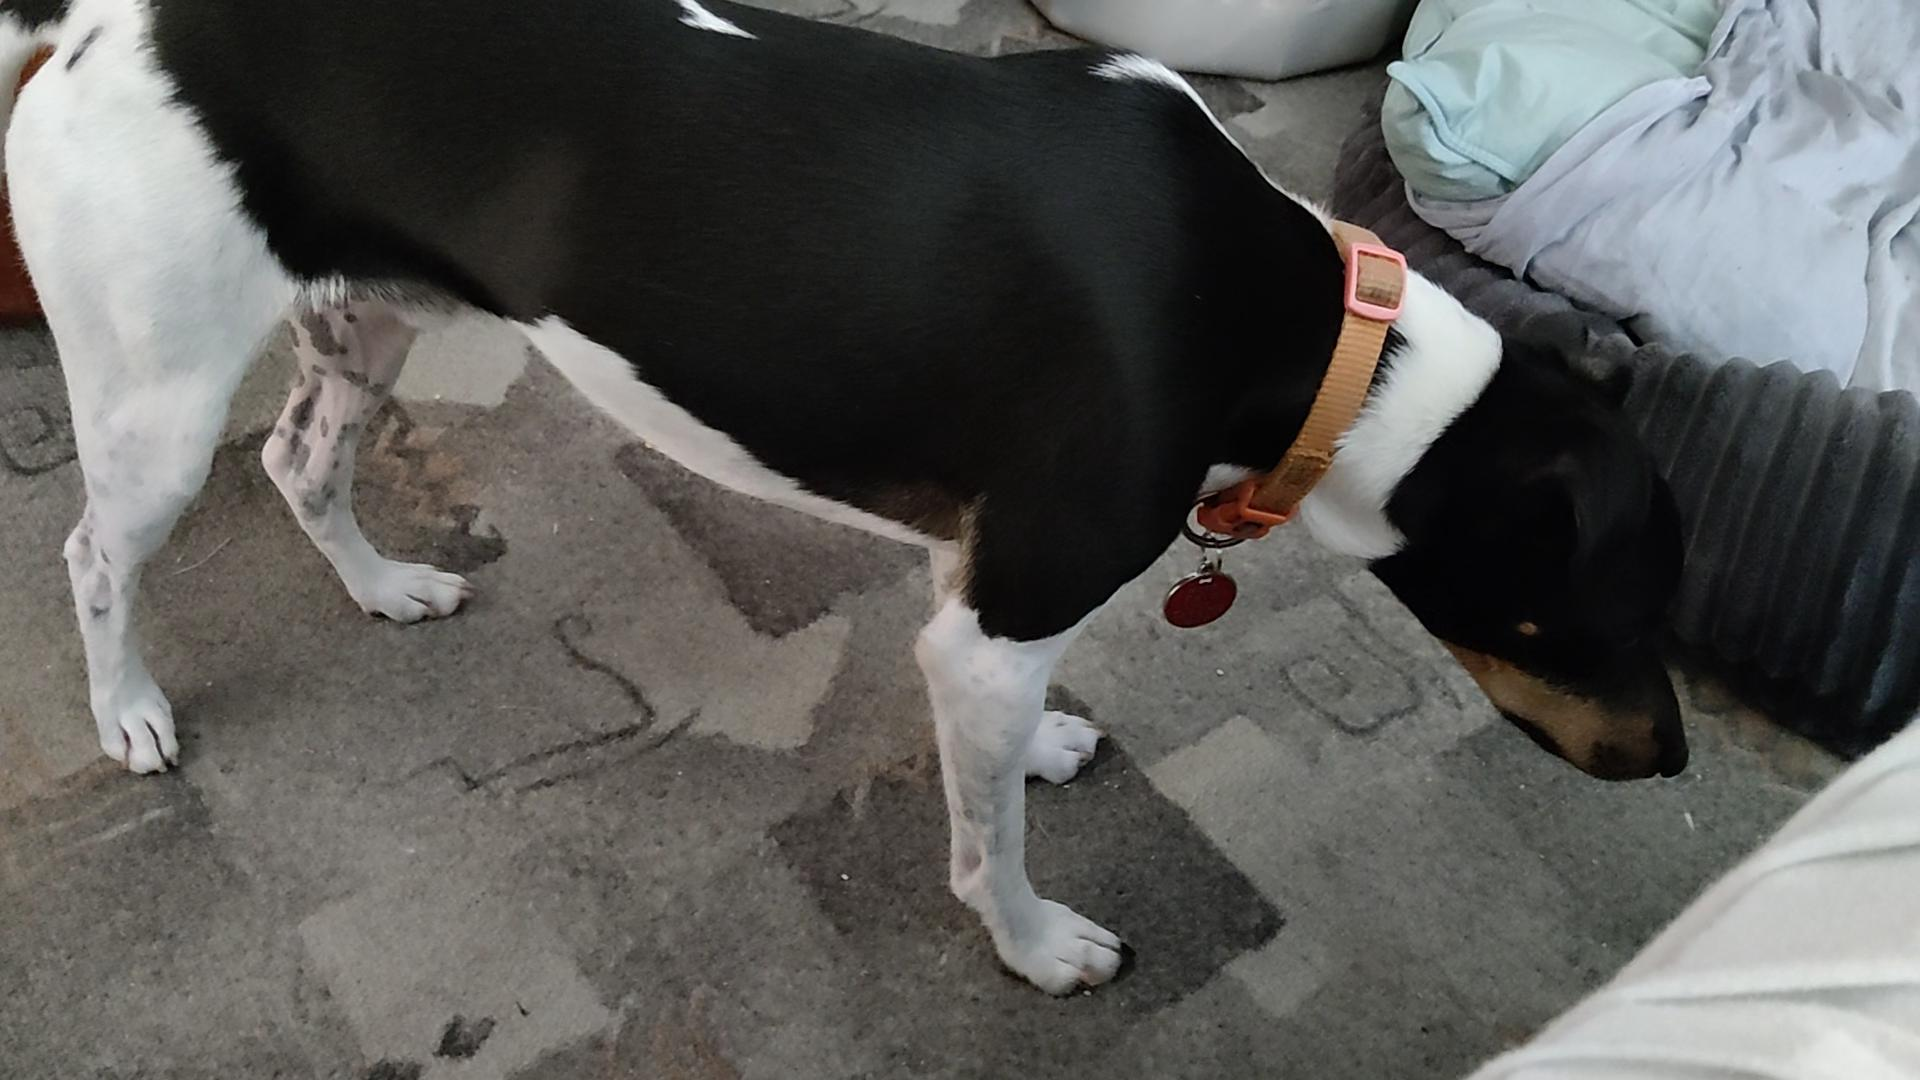Dog: (0, 0, 1700, 1002)
